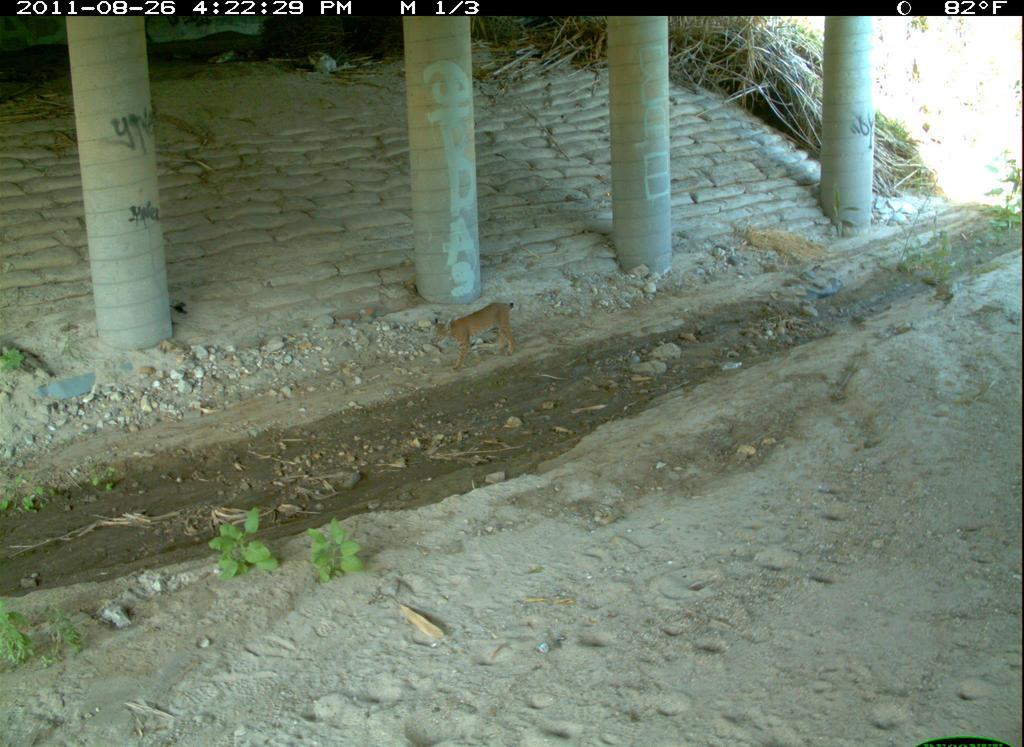bobcat: (855, 594, 1024, 747)
